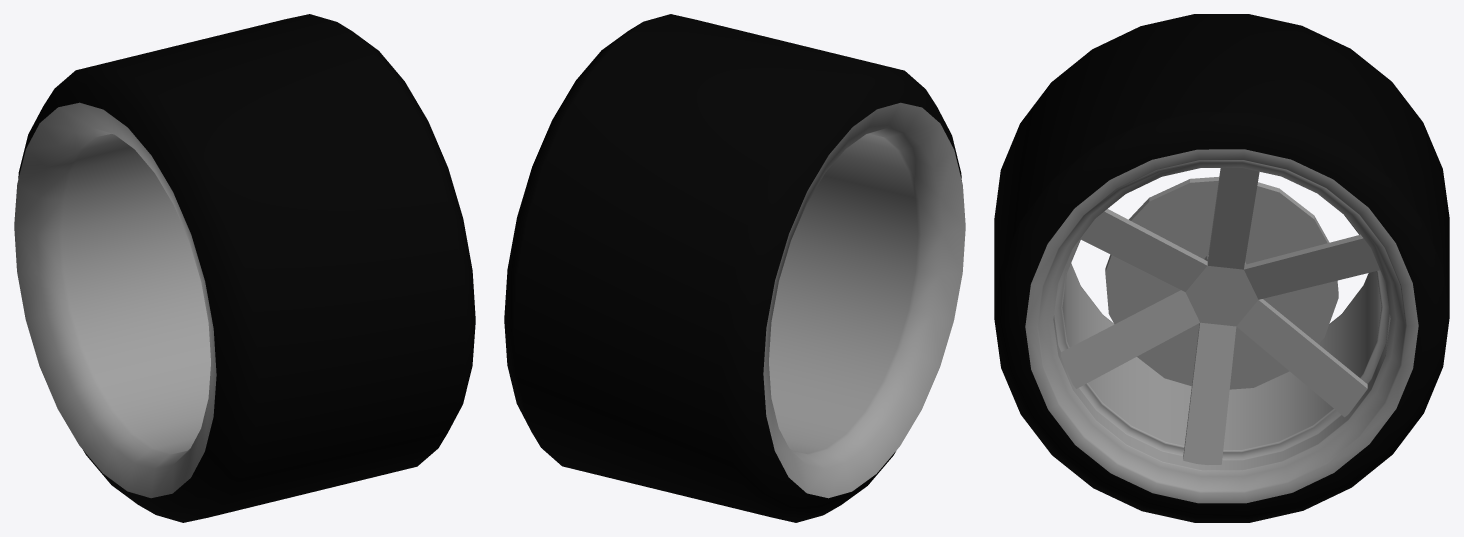
Rendered from Car_2_Front_Left_Wheel.FBX.
3 views of the same model, side by side, from view 1: azimuth 30°, elevation 25°; view 2: azimuth 150°, elevation 25°; view 3: azimuth 270°, elevation 25° (orthographic). The views are drawn at different scales.
Visible parts, largest first — view 1: Car_4_Rear_Left_Wheel; view 2: Car_4_Rear_Left_Wheel; view 3: Car_4_Rear_Left_Wheel.
Part boxes in pixels (x1,y1,x2,y2): Car_4_Rear_Left_Wheel: [14, 14, 475, 522]; Car_4_Rear_Left_Wheel: [504, 14, 965, 522]; Car_4_Rear_Left_Wheel: [994, 14, 1449, 522].
Bounding box in the file's own units: 44.64 × 71.04 × 71.54.
